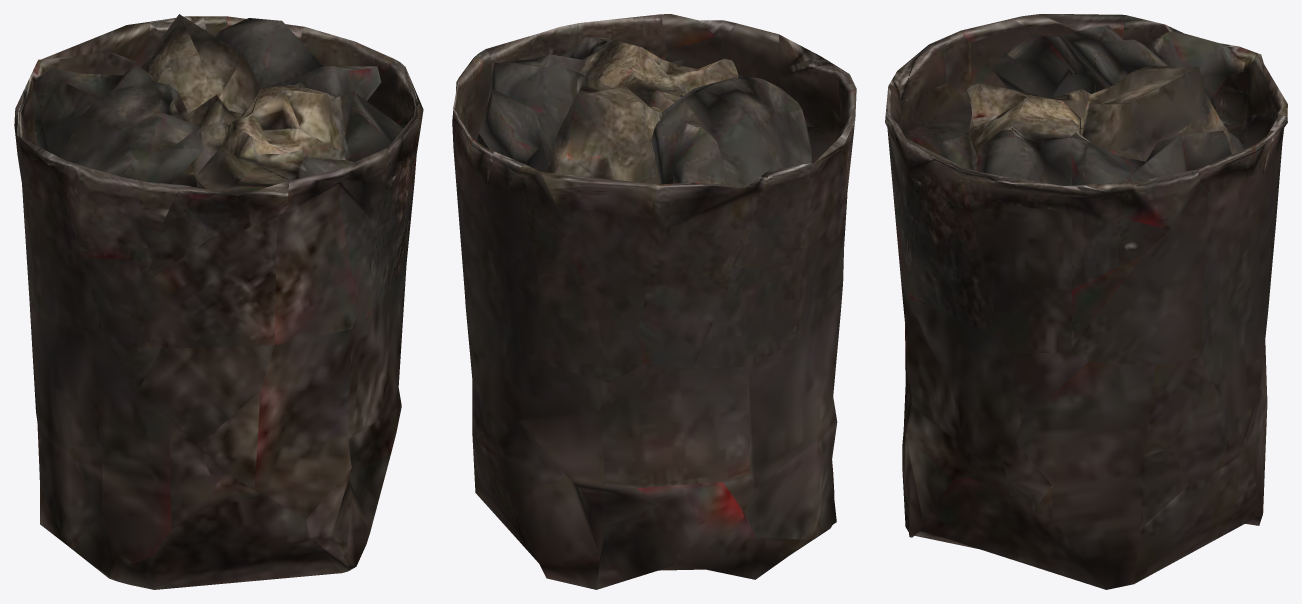
The model's file is trash1.glb.
The picture shows the model from 3 angles, left to right: view 1: azimuth 30°, elevation 25°; view 2: azimuth 150°, elevation 25°; view 3: azimuth 270°, elevation 25°; orthographic projection.
Bounding box in the file's own units: 85.75 × 104 × 82.24.
Materials: 1 (1 with a texture image).
